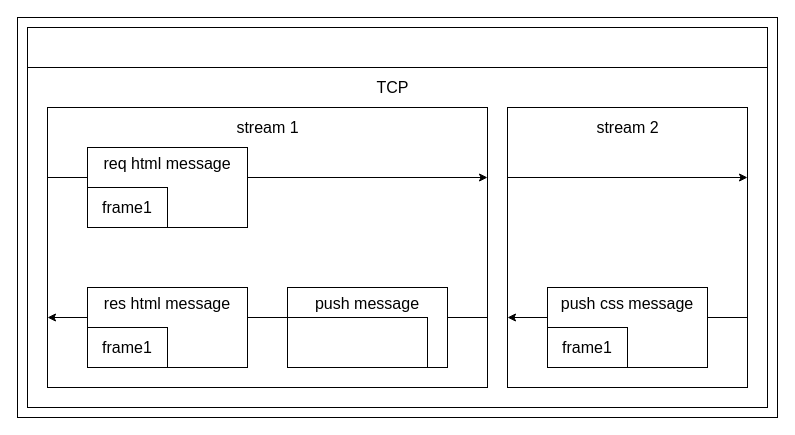
The diagram is 795 pixels wide and 435 high, and some of its shapes have lost their labels. The shapes that lost their labels are listed below. From the top down, each one's centre as x and y in pixels, then its label:
[397,47]: 服务端推送示意图
[357,342]: frame PUSH_PROMISE
